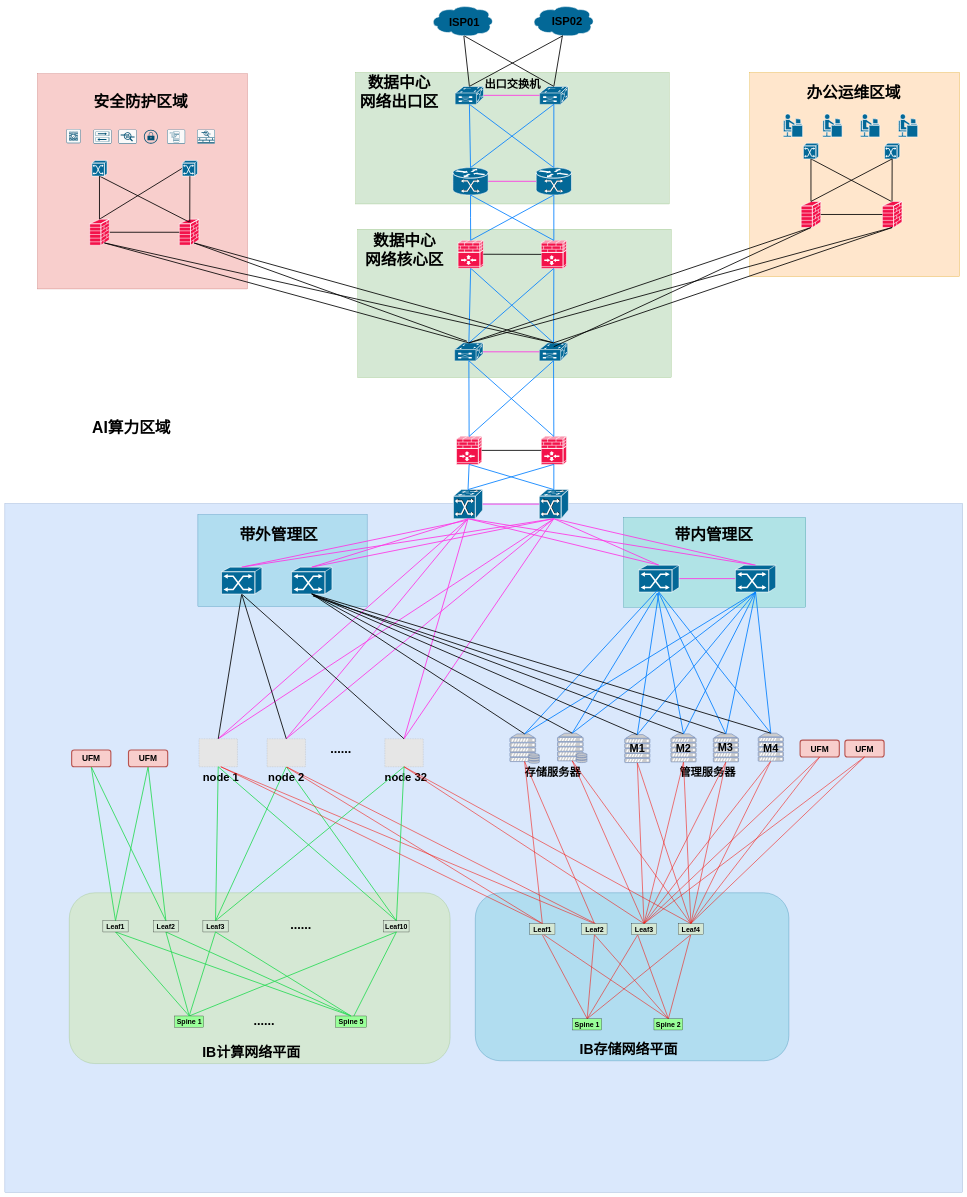
This 967x1197 diagram has some shape labels left out. Grey dashed boxes stand in for pictures. Each missing label, with the centre of its shape:
"S1" goes at point (524, 748).
"S2" goes at point (572, 748).
